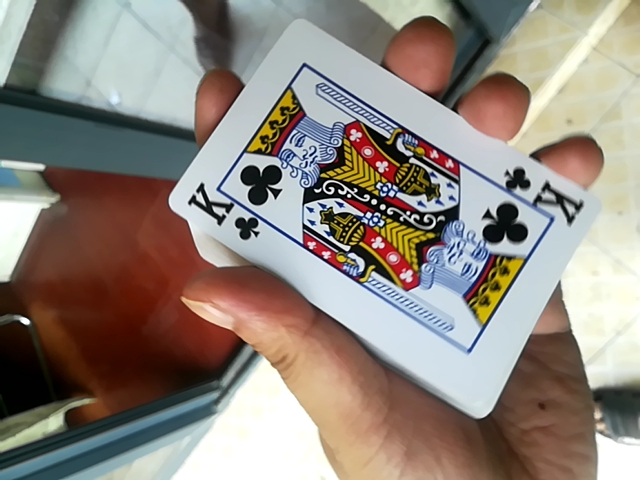mh k: (164, 6, 606, 411)
